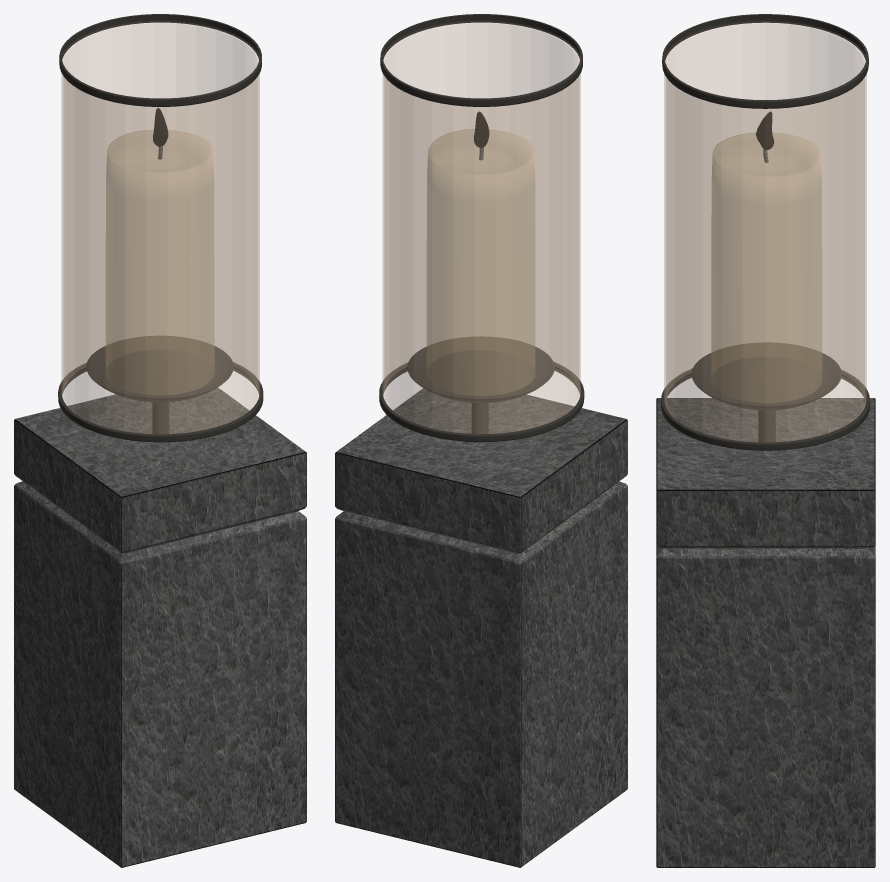
The model's file is Light-2.obj.
3 views of the same model, side by side, from view 1: azimuth 30°, elevation 25°; view 2: azimuth 150°, elevation 25°; view 3: azimuth 270°, elevation 25° (orthographic).
Parts seen in each view (by area): view 1: Obj3d66-648991-55-833_网格.249, Obj3d66-648991-52-351_网格.246, Obj3d66-648991-49-78_网格.243, Obj3d66-648991-51-425_网格.245, Obj3d66-648991-53-721_网格.247; view 2: Obj3d66-648991-55-833_网格.249, Obj3d66-648991-52-351_网格.246, Obj3d66-648991-49-78_网格.243, Obj3d66-648991-51-425_网格.245; view 3: Obj3d66-648991-55-833_网格.249, Obj3d66-648991-52-351_网格.246, Obj3d66-648991-49-78_网格.243, Obj3d66-648991-51-425_网格.245, Obj3d66-648991-53-721_网格.247, Obj3d66-648991-50-48_网格.244.
Part boxes in pixels (x1,y1,x2,y2): Obj3d66-648991-55-833_网格.249: [14, 387, 306, 867]; Obj3d66-648991-52-351_网格.246: [61, 22, 259, 433]; Obj3d66-648991-49-78_网格.243: [106, 130, 214, 395]; Obj3d66-648991-51-425_网格.245: [58, 14, 263, 442]; Obj3d66-648991-53-721_网格.247: [152, 402, 169, 434]; Obj3d66-648991-55-833_网格.249: [335, 388, 627, 867]; Obj3d66-648991-52-351_网格.246: [382, 22, 580, 433]; Obj3d66-648991-49-78_网格.243: [427, 129, 534, 395]; Obj3d66-648991-51-425_网格.245: [379, 14, 584, 441]; Obj3d66-648991-55-833_网格.249: [656, 398, 875, 867]; Obj3d66-648991-52-351_网格.246: [664, 22, 866, 442]; Obj3d66-648991-49-78_网格.243: [711, 133, 821, 403]; Obj3d66-648991-51-425_网格.245: [661, 14, 870, 450]; Obj3d66-648991-53-721_网格.247: [758, 410, 775, 442]; Obj3d66-648991-50-48_网格.244: [756, 111, 773, 149].
Bounding box in the file's own units: 0.526 × 2.02 × 0.526.
Materials: 6 (2 with a texture image).
